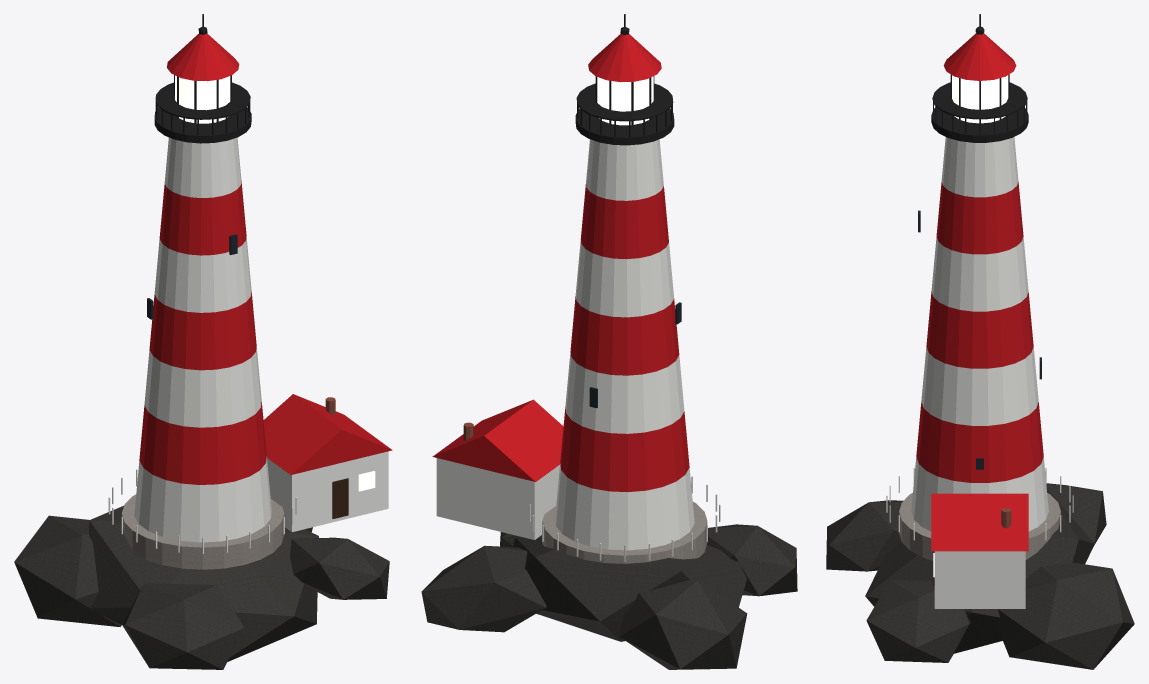
File: OT_Lighthouse.glb
The picture shows the model from 3 angles, left to right: view 1: azimuth 30°, elevation 25°; view 2: azimuth 150°, elevation 25°; view 3: azimuth 270°, elevation 25°; orthographic projection.
Visible parts, largest first — view 1: OT_Lighthouse_Rock, OT_Lighthouse_LHWhite__f2f2ee, OT_Lighthouse_LHRed__c4161d, OT_Lighthouse_ConcLight, OT_Lighthouse_Iron__1c1c1c, OT_Lighthouse_LampGlass__fff4c0, OT_Lighthouse_Door__3a2416; view 2: OT_Lighthouse_LHWhite__f2f2ee, OT_Lighthouse_Rock, OT_Lighthouse_LHRed__c4161d, OT_Lighthouse_Iron__1c1c1c, OT_Lighthouse_ConcLight, OT_Lighthouse_LampGlass__fff4c0; view 3: OT_Lighthouse_Rock, OT_Lighthouse_LHRed__c4161d, OT_Lighthouse_LHWhite__f2f2ee, OT_Lighthouse_Iron__1c1c1c, OT_Lighthouse_ConcLight, OT_Lighthouse_LampGlass__fff4c0.
Boxes of the visible parts, box(x1,y1,x2,y2) form: OT_Lighthouse_Rock: box(14, 505, 389, 669); OT_Lighthouse_LHWhite__f2f2ee: box(108, 137, 388, 553); OT_Lighthouse_LHRed__c4161d: box(139, 33, 392, 484); OT_Lighthouse_ConcLight: box(121, 494, 284, 569); OT_Lighthouse_Iron__1c1c1c: box(154, 14, 251, 143); OT_Lighthouse_LampGlass__fff4c0: box(175, 75, 230, 123); OT_Lighthouse_Door__3a2416: box(332, 478, 348, 518); OT_Lighthouse_LHWhite__f2f2ee: box(436, 139, 720, 561); OT_Lighthouse_Rock: box(421, 524, 797, 669); OT_Lighthouse_LHRed__c4161d: box(432, 34, 689, 491); OT_Lighthouse_Iron__1c1c1c: box(575, 14, 674, 145); OT_Lighthouse_ConcLight: box(542, 501, 707, 563); OT_Lighthouse_LampGlass__fff4c0: box(597, 76, 653, 125); OT_Lighthouse_Rock: box(826, 483, 1134, 669); OT_Lighthouse_LHRed__c4161d: box(916, 33, 1043, 551); OT_Lighthouse_LHWhite__f2f2ee: box(886, 137, 1073, 608); OT_Lighthouse_Iron__1c1c1c: box(931, 14, 1028, 142); OT_Lighthouse_ConcLight: box(899, 493, 1060, 560); OT_Lighthouse_LampGlass__fff4c0: box(952, 75, 1008, 123).
Bounding box in the file's own units: 17.68 × 33.15 × 15.25.
10 materials, 2 textured.
